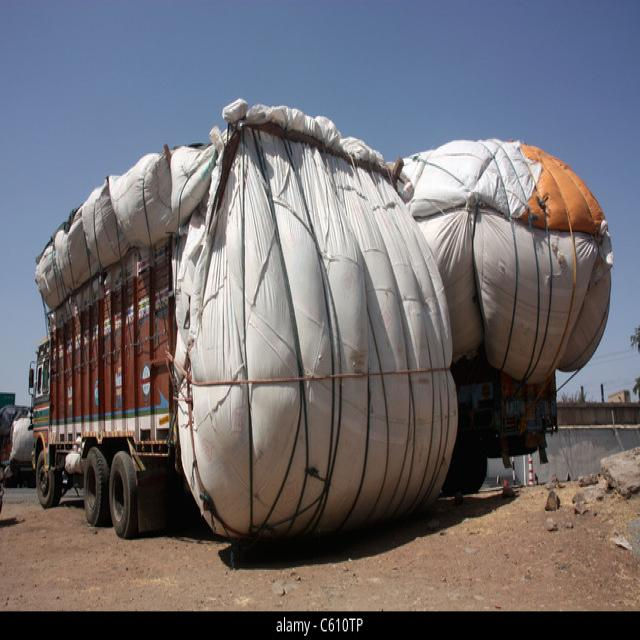goods: (34, 102, 459, 541), (392, 140, 611, 387)
truck: (31, 242, 177, 540), (442, 349, 558, 503)
